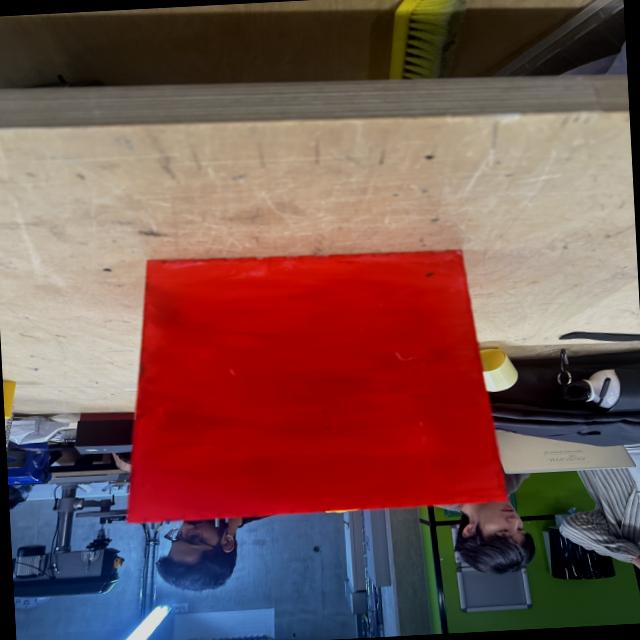red_bin: (112, 240, 510, 524)
